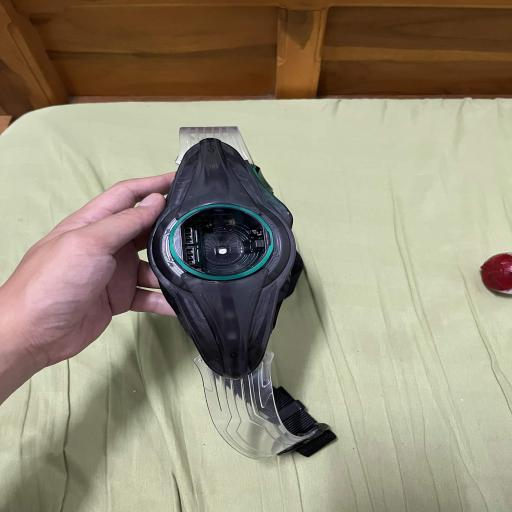zeztzdriver: (147, 127, 332, 458), (272, 386, 336, 457)
